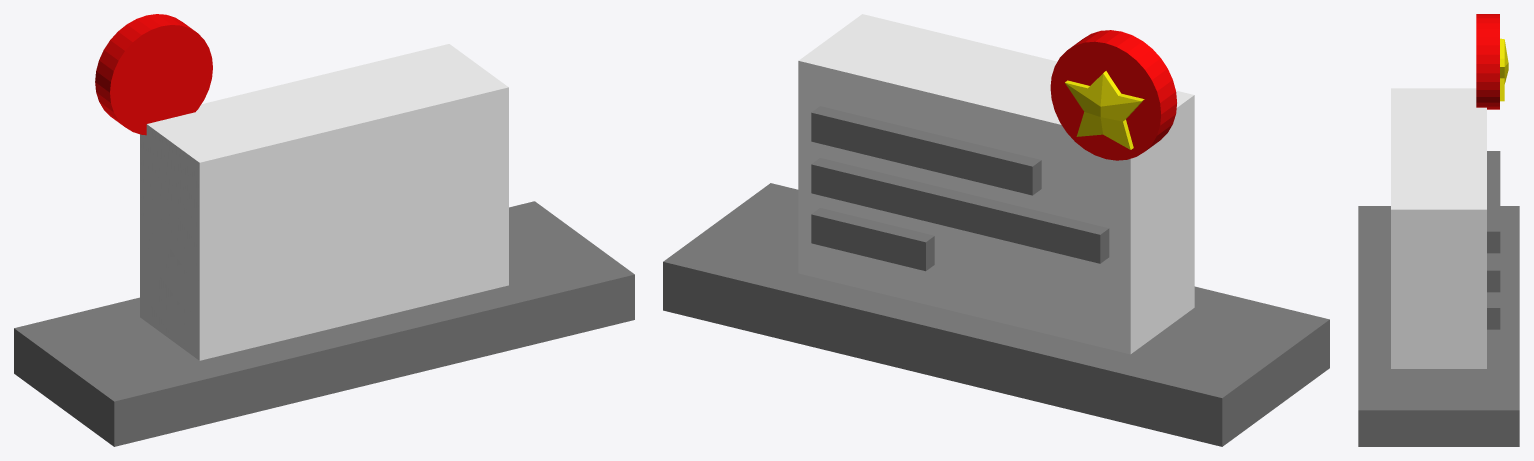
Rendered from license.glb.
The picture shows the model from 3 angles, left to right: view 1: azimuth 30°, elevation 25°; view 2: azimuth 150°, elevation 25°; view 3: azimuth 270°, elevation 25°; orthographic projection. The views are drawn at different scales.
Parts seen in each view (by area): view 1: license; view 2: license; view 3: license.
Boxes of the visible parts, left/top/right/bottom form: license: left=14, top=14, right=634, bottom=446; license: left=663, top=14, right=1329, bottom=446; license: left=1358, top=14, right=1519, bottom=446.
Size of the model in its own units: 10.1 by 6.26 by 3.37.
